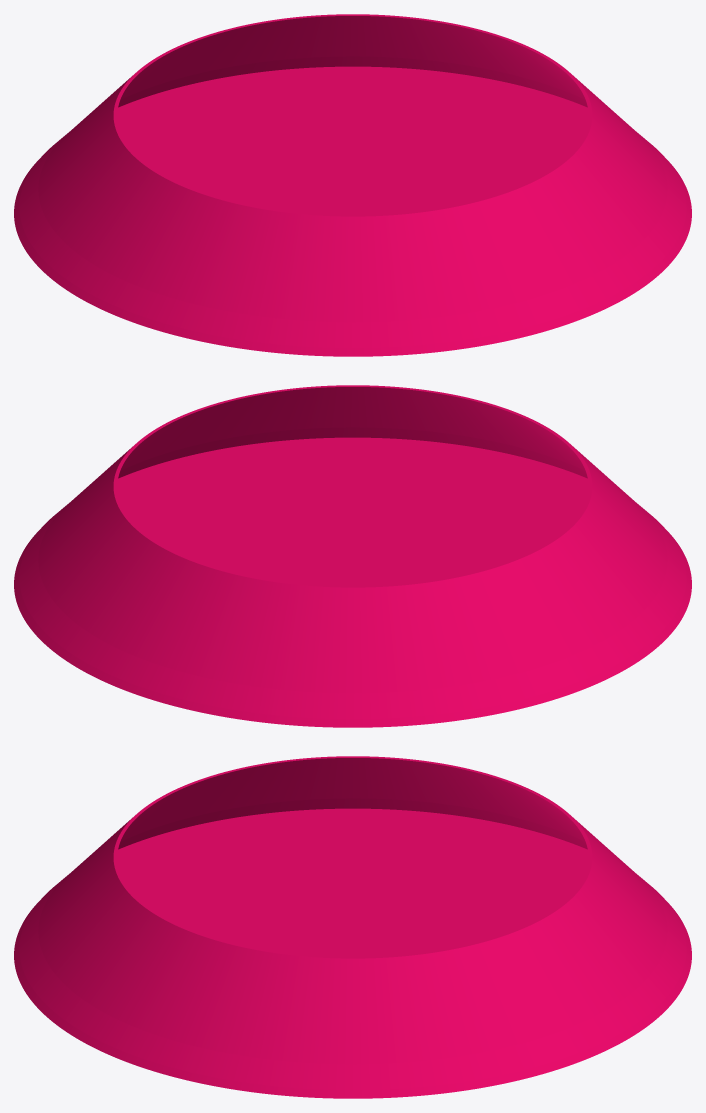
The model's file is Arena.glb.
The picture shows the model from 3 angles, top to bottom: view 1: azimuth 30°, elevation 25°; view 2: azimuth 150°, elevation 25°; view 3: azimuth 270°, elevation 25°; orthographic projection.
Parts seen in each view (by area): view 1: stage; view 2: stage; view 3: stage.
Boxes of the visible parts, <box> form: stage: <box>14,14,691,356</box>; stage: <box>14,385,691,727</box>; stage: <box>14,756,691,1098</box>.
Size of the model in its own units: 72.5 by 11.57 by 72.5.
